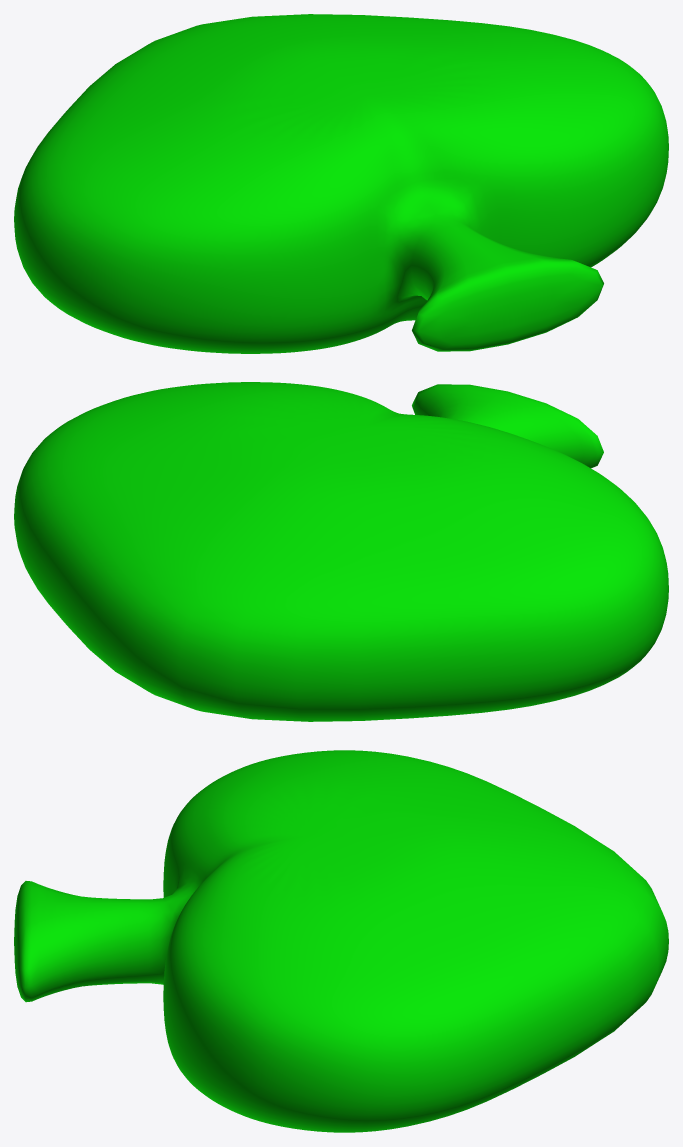
File: spade.fbx
3 views of the same model, one above another, from view 1: azimuth 30°, elevation 25°; view 2: azimuth 150°, elevation 25°; view 3: azimuth 270°, elevation 25° (orthographic).
Visible parts, largest first — view 1: Circle; view 2: Circle; view 3: Circle.
Boxes of the visible parts, box(x1,y1,x2,y2) form: Circle: box(14, 14, 668, 353); Circle: box(14, 382, 668, 721); Circle: box(14, 750, 668, 1132).
Size of the model in its own units: 302 by 101 by 286.
